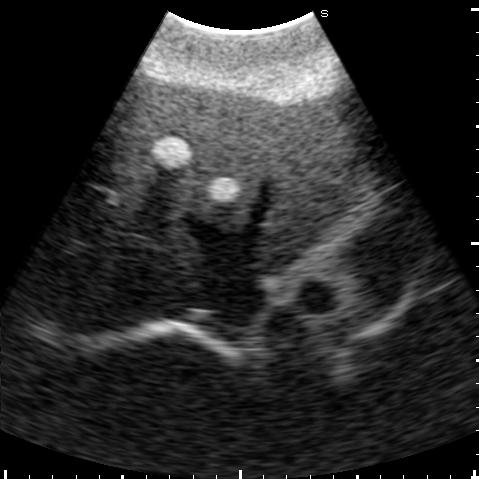S2: (254, 118, 357, 276)
S4: (107, 81, 287, 231)
S7: (51, 233, 199, 333)
S8: (71, 160, 199, 259)
Tumor: (149, 135, 190, 169), (206, 178, 237, 200)
